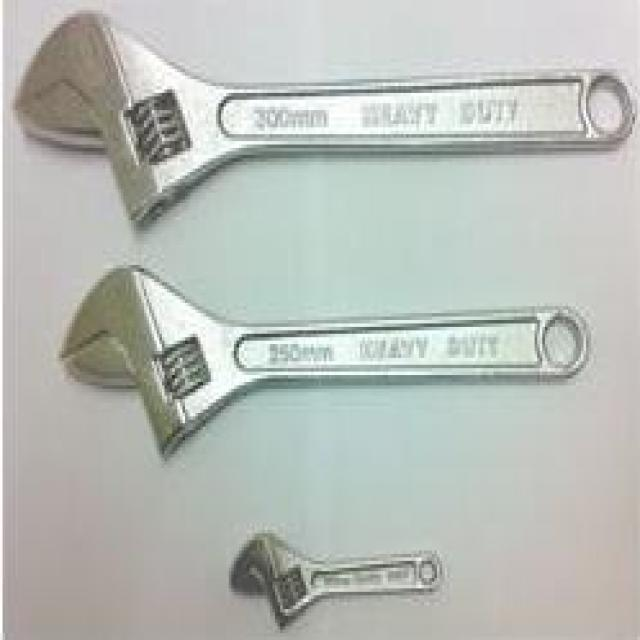wrench: (8, 6, 640, 238), (53, 250, 598, 470), (223, 521, 448, 640)
